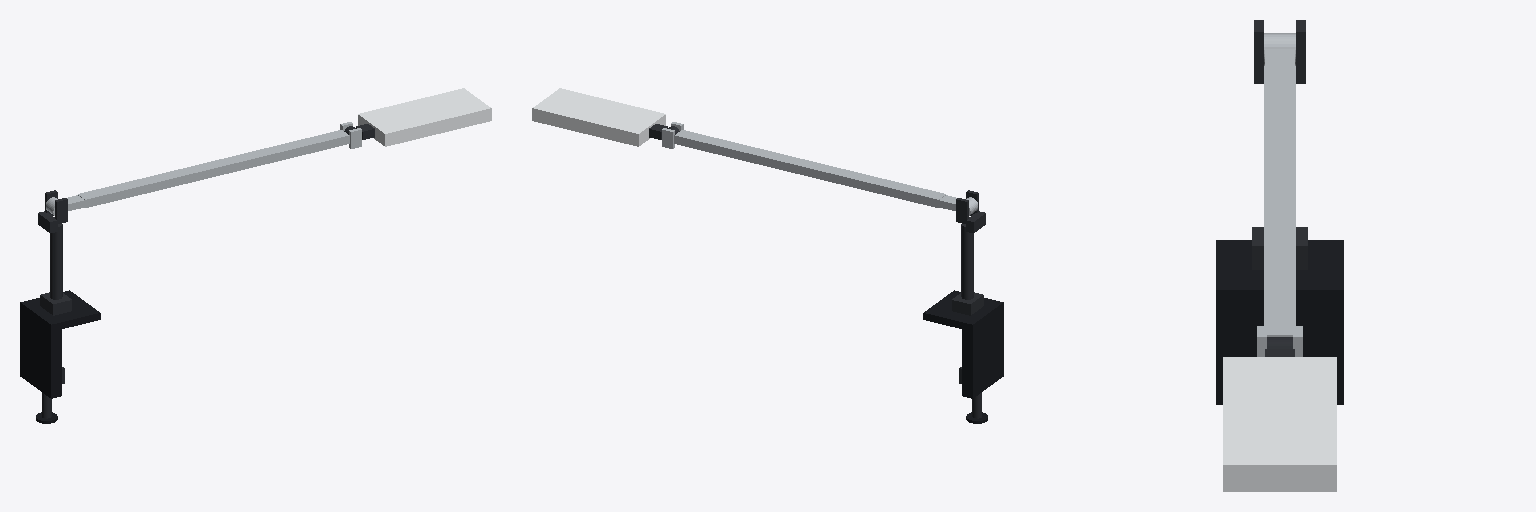
robot.urdf — single_arm_task_lamp:
<robot name="single_arm_task_lamp">
  <material name="matte_black">
    <color rgba="0.14 0.15 0.17 1" />
    </material>
  <material name="graphite">
    <color rgba="0.22 0.23 0.25 1" />
    </material>
  <material name="aluminium">
    <color rgba="0.76 0.78 0.8 1" />
    </material>
  <material name="warm_white">
    <color rgba="0.93 0.94 0.95 1" />
    </material>
  <material name="diffuser">
    <color rgba="0.98 0.98 0.95 0.82" />
    </material>
  <link name="mount">
    <inertial>
      <origin xyz="-0.005 0 0.045" rpy="0 0 0" />
      <mass value="1.8" />
      <inertia ixx="0.0136987" ixy="0" ixz="0" iyy="0.01383" iyz="0" izz="0.00229875" />
      </inertial>
    <visual name="clamp_top">
      <origin xyz="0.01 0 0.055" rpy="0 0 0" />
      <geometry>
        <box size="0.065 0.078 0.01" />
        </geometry>
      <material name="matte_black">
        <color rgba="0.14 0.15 0.17 1" />
        </material>
      </visual>
    <visual name="clamp_back">
      <origin xyz="-0.022 0 0.008" rpy="0 0 0" />
      <geometry>
        <box size="0.016 0.078 0.104" />
        </geometry>
      <material name="matte_black">
        <color rgba="0.14 0.15 0.17 1" />
        </material>
      </visual>
    <visual name="screw_collar">
      <origin xyz="-0.014 0 -0.025" rpy="0 0 0" />
      <geometry>
        <box size="0.026 0.046 0.022" />
        </geometry>
      <material name="graphite">
        <color rgba="0.22 0.23 0.25 1" />
        </material>
      </visual>
    <visual name="screw_shaft">
      <origin xyz="-0.014 0 -0.062" rpy="0 0 0" />
      <geometry>
        <cylinder radius="0.0065" length="0.052" />
        </geometry>
      <material name="graphite">
        <color rgba="0.22 0.23 0.25 1" />
        </material>
      </visual>
    <visual name="screw_pad">
      <origin xyz="-0.014 0 -0.09" rpy="0 0 0" />
      <geometry>
        <cylinder radius="0.014" length="0.004" />
        </geometry>
      <material name="matte_black">
        <color rgba="0.14 0.15 0.17 1" />
        </material>
      </visual>
    <visual name="column_base">
      <origin xyz="0 0 0.068" rpy="0 0 0" />
      <geometry>
        <box size="0.028 0.034 0.016" />
        </geometry>
      <material name="graphite">
        <color rgba="0.22 0.23 0.25 1" />
        </material>
      </visual>
    <visual name="column">
      <origin xyz="0 0 0.127" rpy="0 0 0" />
      <geometry>
        <cylinder radius="0.008" length="0.102" />
        </geometry>
      <material name="graphite">
        <color rgba="0.22 0.23 0.25 1" />
        </material>
      </visual>
    <visual name="mount_bridge">
      <origin xyz="-0.012 0 0.184" rpy="0 0 0" />
      <geometry>
        <box size="0.012 0.032 0.016" />
        </geometry>
      <material name="graphite">
        <color rgba="0.22 0.23 0.25 1" />
        </material>
      </visual>
    <visual name="mount_left_cheek">
      <origin xyz="0 -0.013 0.202" rpy="0 0 0" />
      <geometry>
        <box size="0.016 0.006 0.032" />
        </geometry>
      <material name="graphite">
        <color rgba="0.22 0.23 0.25 1" />
        </material>
      </visual>
    <visual name="mount_right_cheek">
      <origin xyz="0 0.013 0.202" rpy="0 0 0" />
      <geometry>
        <box size="0.016 0.006 0.032" />
        </geometry>
      <material name="graphite">
        <color rgba="0.22 0.23 0.25 1" />
        </material>
      </visual>
    </link>
  <link name="arm">
    <inertial>
      <origin xyz="0.225 0 0" rpy="0 0 0" />
      <mass value="0.55" />
      <inertia ixx="6.19667e-05" ixy="0" ixz="0" iyy="0.00931223" iyz="0" izz="0.00931223" />
      </inertial>
    <visual name="arm_hub">
      <origin xyz="0 0 0" rpy="1.5708 0 0" />
      <geometry>
        <cylinder radius="0.01" length="0.02" />
        </geometry>
      <material name="aluminium">
        <color rgba="0.76 0.78 0.8 1" />
        </material>
      </visual>
    <visual name="rear_knuckle">
      <origin xyz="0.024 0 0" rpy="0 0 0" />
      <geometry>
        <box size="0.028 0.018 0.01" />
        </geometry>
      <material name="aluminium">
        <color rgba="0.76 0.78 0.8 1" />
        </material>
      </visual>
    <visual name="boom">
      <origin xyz="0.231 0 0" rpy="0 0 0" />
      <geometry>
        <box size="0.388 0.02 0.012" />
        </geometry>
      <material name="aluminium">
        <color rgba="0.76 0.78 0.8 1" />
        </material>
      </visual>
    <visual name="head_left_cheek">
      <origin xyz="0.433 -0.011 0" rpy="0 0 0" />
      <geometry>
        <box size="0.016 0.006 0.024" />
        </geometry>
      <material name="aluminium">
        <color rgba="0.76 0.78 0.8 1" />
        </material>
      </visual>
    <visual name="head_right_cheek">
      <origin xyz="0.433 0.011 0" rpy="0 0 0" />
      <geometry>
        <box size="0.016 0.006 0.024" />
        </geometry>
      <material name="aluminium">
        <color rgba="0.76 0.78 0.8 1" />
        </material>
      </visual>
    </link>
  <link name="head">
    <inertial>
      <origin xyz="0.095 0 -0.001" rpy="0 0 0" />
      <mass value="0.34" />
      <inertia ixx="0.000200487" ixy="0" ixz="0" iyy="0.00104199" iyz="0" izz="0.00120417" />
      </inertial>
    <visual name="head_hinge">
      <origin xyz="0 0 0" rpy="1.5708 0 0" />
      <geometry>
        <cylinder radius="0.009" length="0.016" />
        </geometry>
      <material name="graphite">
        <color rgba="0.22 0.23 0.25 1" />
        </material>
      </visual>
    <visual name="neck">
      <origin xyz="0.018 0 0" rpy="0 0 0" />
      <geometry>
        <box size="0.018 0.018 0.012" />
        </geometry>
      <material name="graphite">
        <color rgba="0.22 0.23 0.25 1" />
        </material>
      </visual>
    <visual name="shade_shell">
      <origin xyz="0.105 0 0" rpy="0 0 0" />
      <geometry>
        <box size="0.156 0.07 0.018" />
        </geometry>
      <material name="warm_white">
        <color rgba="0.93 0.94 0.95 1" />
        </material>
      </visual>
    <visual name="diffuser">
      <origin xyz="0.109 0 -0.011" rpy="0 0 0" />
      <geometry>
        <box size="0.122 0.046 0.004" />
        </geometry>
      <material name="diffuser">
        <color rgba="0.98 0.98 0.95 0.82" />
        </material>
      </visual>
    </link>
  <joint name="mount_to_arm" type="revolute">
    <origin xyz="0 0 0.202" rpy="0 0 0" />
    <parent link="mount" />
    <child link="arm" />
    <axis xyz="0 1 0" />
    <limit effort="8" velocity="2.5" lower="-0.55" upper="1" />
    </joint>
  <joint name="arm_to_head" type="revolute">
    <origin xyz="0.436 0 0" rpy="0 0 0" />
    <parent link="arm" />
    <child link="head" />
    <axis xyz="0 1 0" />
    <limit effort="4" velocity="3.5" lower="-0.65" upper="0.5" />
    </joint>
  </robot>

--- Facts derived from the render (not from the file) ---
3 views of the same robot in one strip: view 1: azimuth 30°, elevation 25°; view 2: azimuth 150°, elevation 25°; view 3: azimuth 270°, elevation 25° (orthographic).
Model single_arm_task_lamp with 3 links and 2 joints (2 revolute), rooted at mount, posed all joints at 0.
Visible links, largest first — view 1: mount, arm, head; view 2: mount, arm, head; view 3: head, mount, arm.
Boxes of the visible links, x1=… form: mount: x1=20, y1=190, x2=100, y2=423; arm: x1=46, y1=122, x2=361, y2=215; head: x1=344, y1=88, x2=491, y2=146; mount: x1=923, y1=190, x2=1003, y2=423; arm: x1=662, y1=122, x2=977, y2=215; head: x1=532, y1=88, x2=679, y2=146; head: x1=1223, y1=337, x2=1336, y2=491; mount: x1=1216, y1=20, x2=1343, y2=404; arm: x1=1257, y1=33, x2=1302, y2=356.
Size in the robot's own frame: 0.649 by 0.078 by 0.31 metres.
Geometry: primitives only (box / cylinder / sphere), no mesh files.
